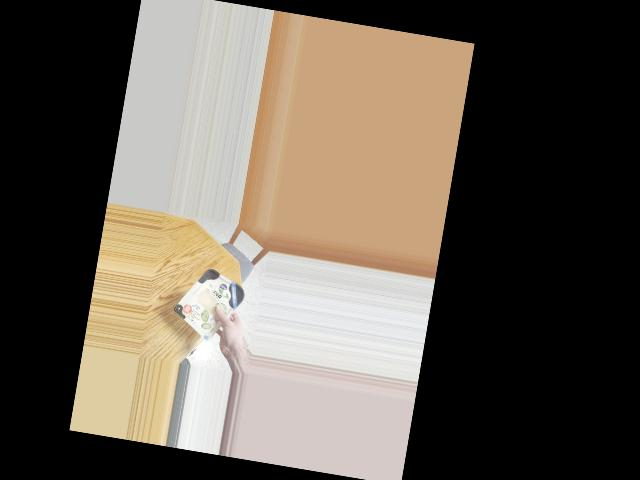cheese: (177, 259, 248, 336)
